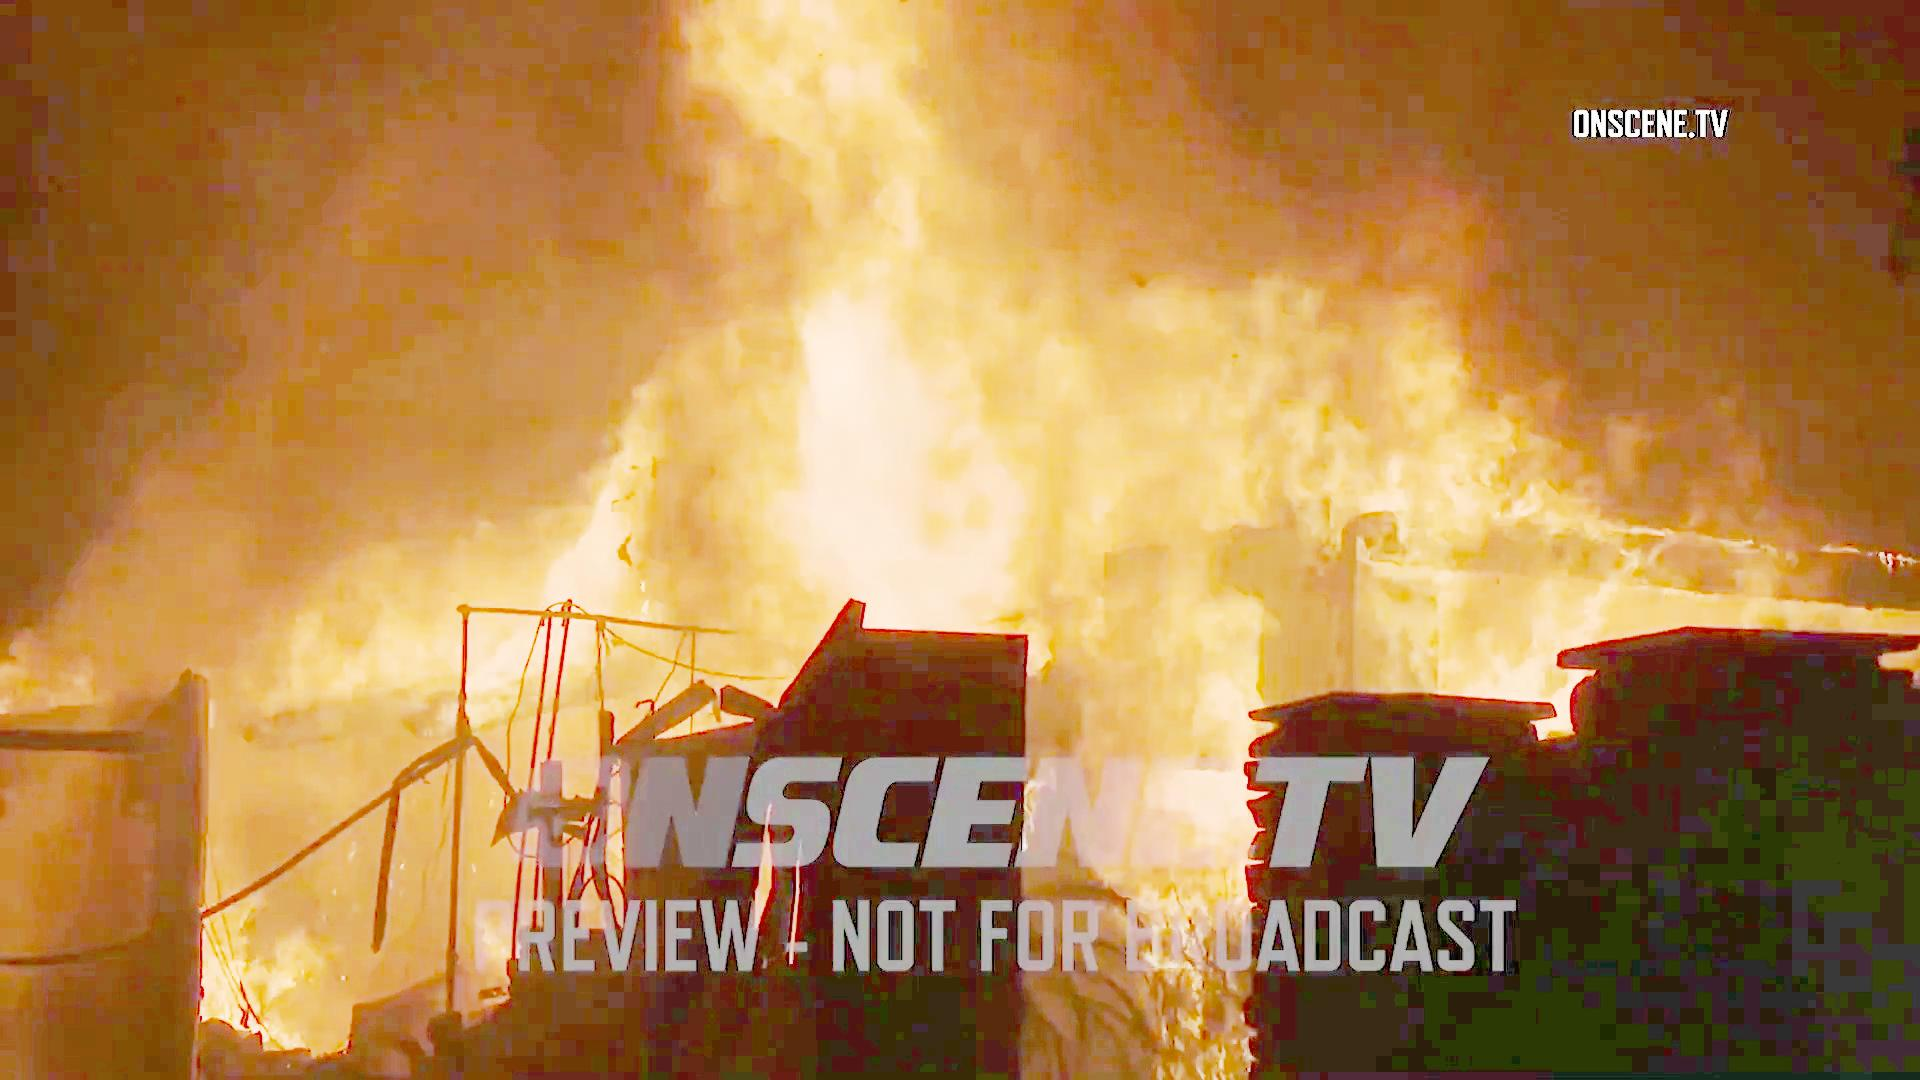fire: (628, 21, 1539, 629), (1043, 306, 1234, 901)
